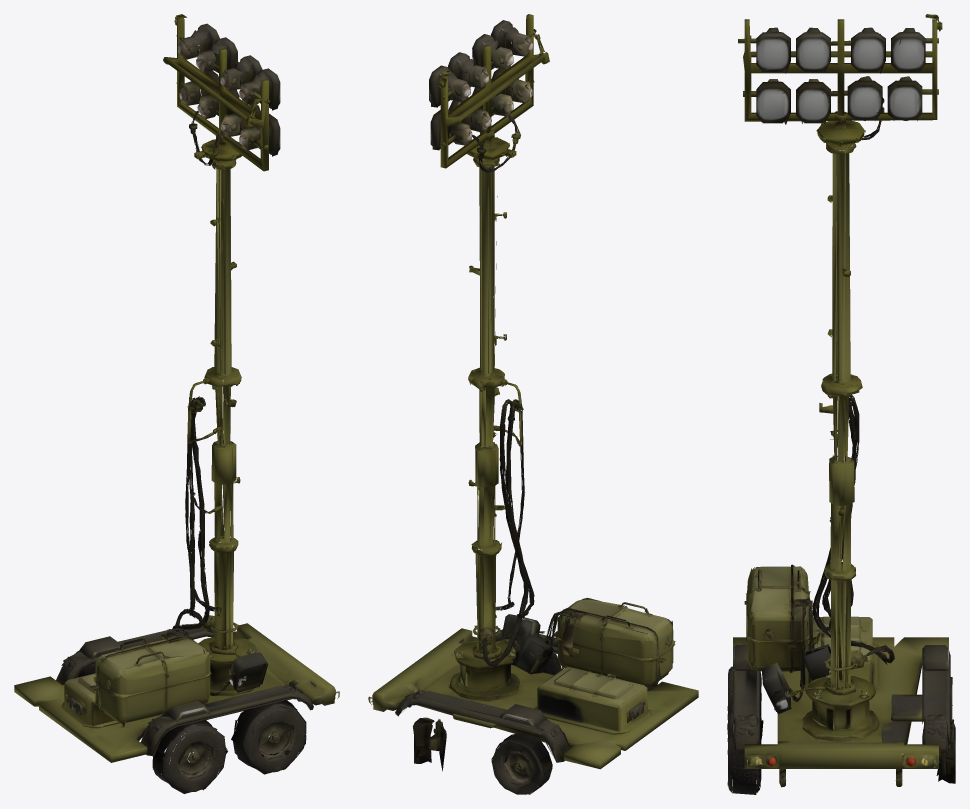
The model's file is ch4_mobile_light_tower_LOD1.glb.
3 renders of one model, left to right at view 1: azimuth 30°, elevation 25°; view 2: azimuth 150°, elevation 25°; view 3: azimuth 270°, elevation 25°, orthographic. The views are drawn at different scales.
Visible parts, largest first — view 1: tripo_node_c0f13101-130a-4c5d-920d-0b0e6c6459a0; view 2: tripo_node_c0f13101-130a-4c5d-920d-0b0e6c6459a0; view 3: tripo_node_c0f13101-130a-4c5d-920d-0b0e6c6459a0.
Part boxes in pixels (x1,y1,x2,y2): tripo_node_c0f13101-130a-4c5d-920d-0b0e6c6459a0: (14,14,339,793); tripo_node_c0f13101-130a-4c5d-920d-0b0e6c6459a0: (368,14,698,794); tripo_node_c0f13101-130a-4c5d-920d-0b0e6c6459a0: (727,14,955,794).
Bounding box in the file's own units: 0.3574 × 1 × 0.2686.
1 material, 1 textured.
